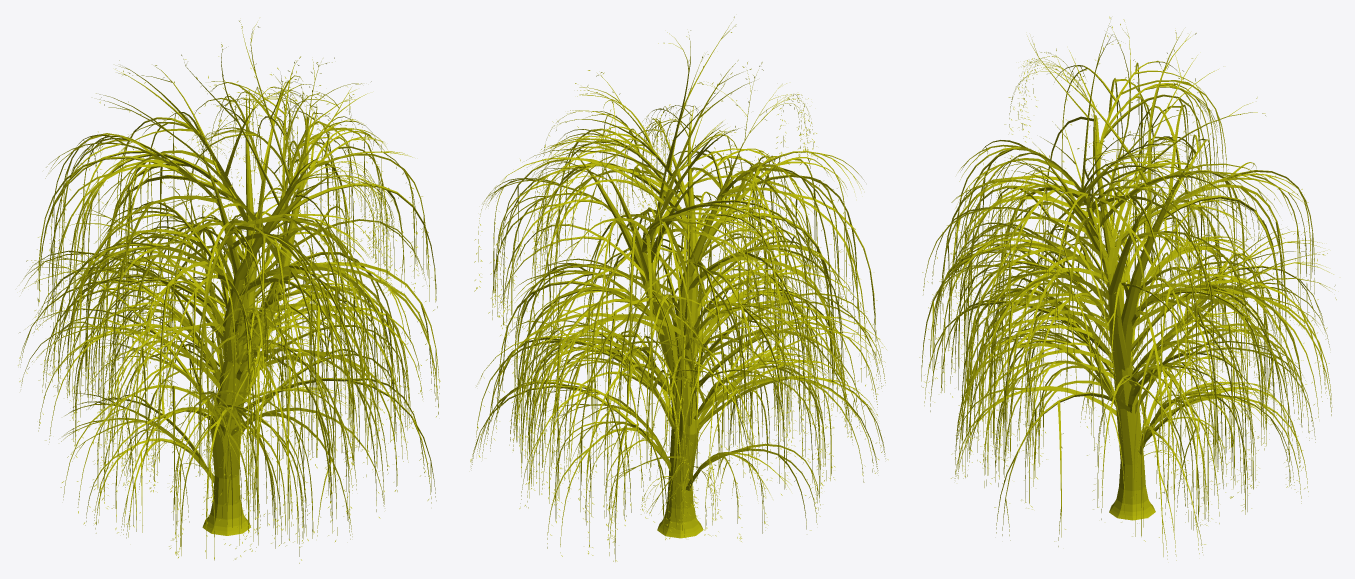
The model's file is weeping_willow.obj.
3 views of the same model, side by side, from view 1: azimuth 30°, elevation 25°; view 2: azimuth 150°, elevation 25°; view 3: azimuth 270°, elevation 25° (orthographic). The views are drawn at different scales.
Size of the model in its own units: 13.2 by 16.77 by 12.91.
